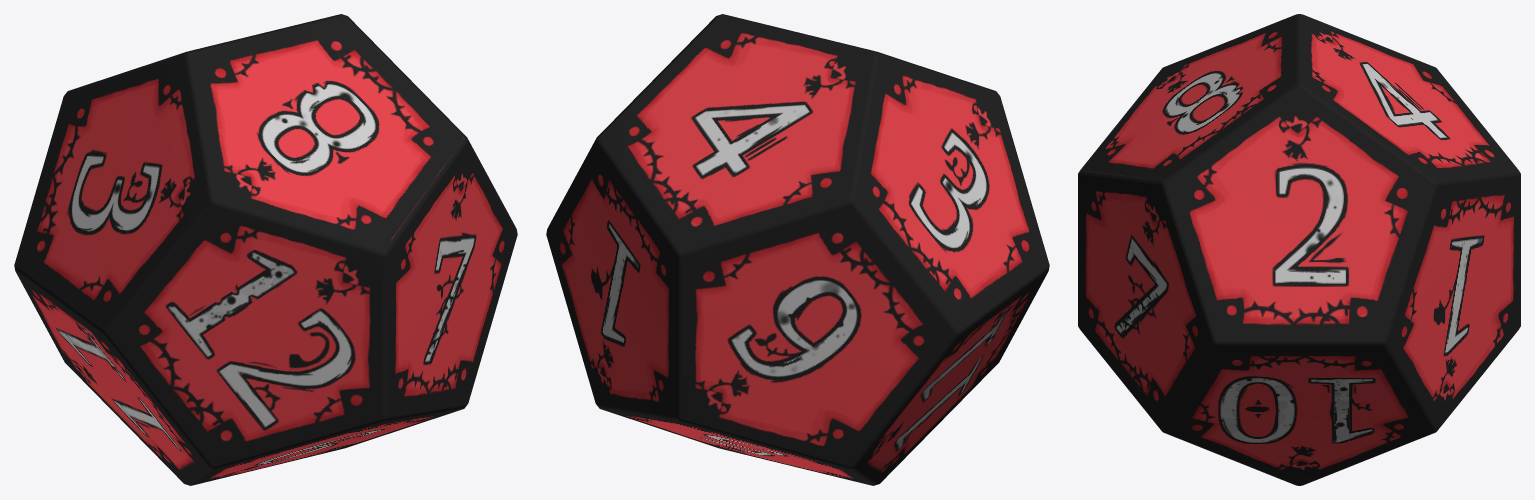
File: d12-carrion.glb
3 renders of one model, left to right at view 1: azimuth 30°, elevation 25°; view 2: azimuth 150°, elevation 25°; view 3: azimuth 270°, elevation 25°, orthographic. The views are drawn at different scales.
Visible parts, largest first — view 1: Mesh_0; view 2: Mesh_0; view 3: Mesh_0.
Boxes of the visible parts, bbox=[...] form: Mesh_0: bbox=[14, 14, 517, 485]; Mesh_0: bbox=[546, 14, 1049, 485]; Mesh_0: bbox=[1078, 14, 1520, 485].
Size of the model in its own units: 167 by 167 by 167.
Materials: 1 (1 with a texture image).
